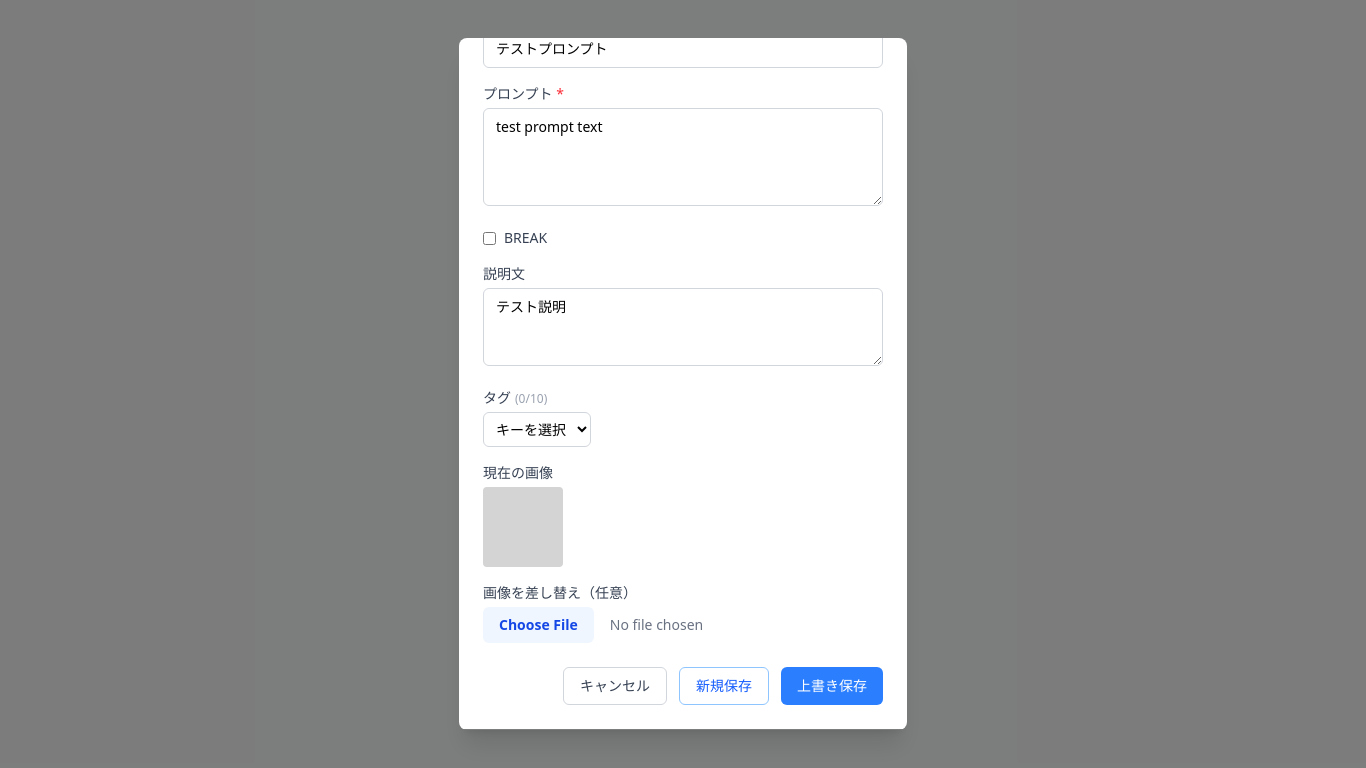
Test: PromptEditDialog › 保存失敗でエラーが表示される
(page scrolled)
Expected: the field with test id "edit-title-input" is shown, [483, 38, 883, 68]
Click the button with test id "edit-prompt-save" at x=832, y=686, box [781, 667, 883, 705]
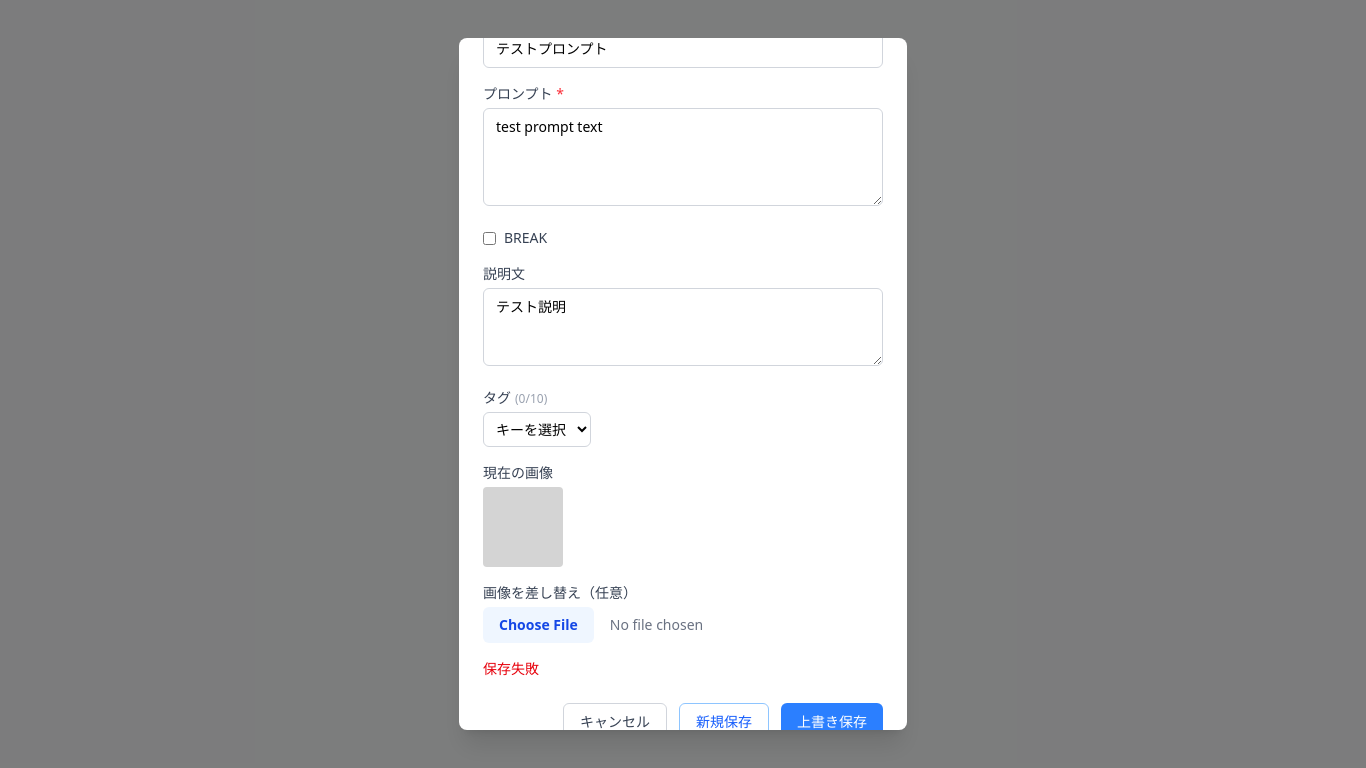
Expected: the button with test id "edit-prompt-save" is enabled, [781, 703, 883, 730]
Expected: the text with test id "edit-prompt-error" reads "保存失敗", [483, 659, 539, 678]
